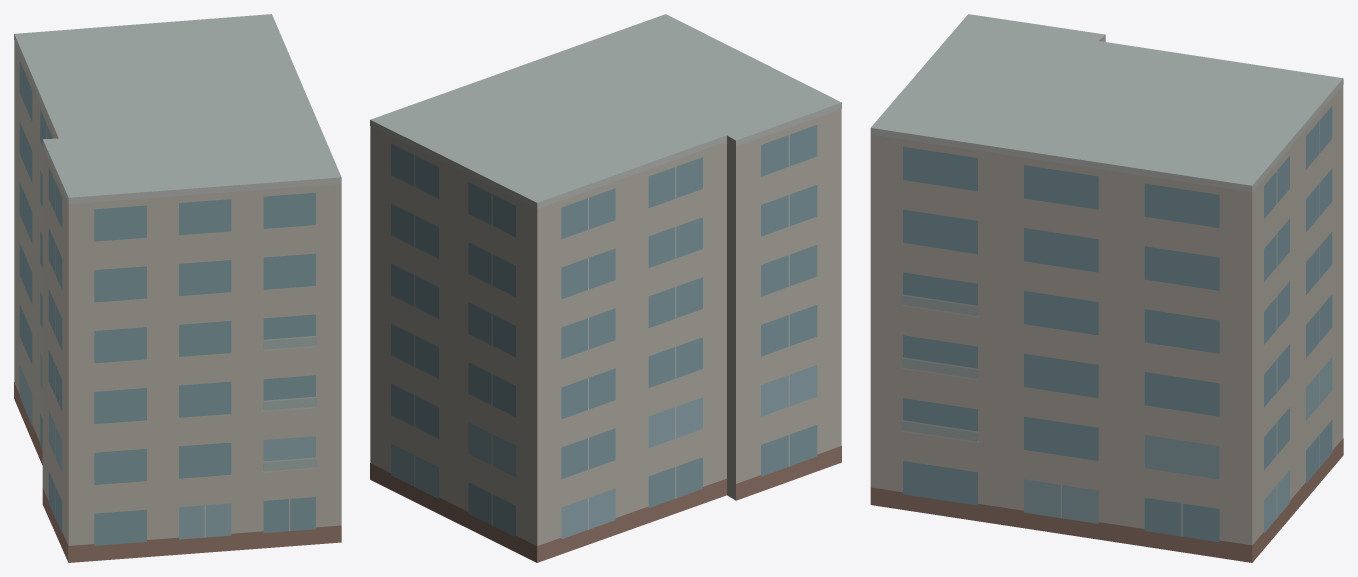
File: survey-upis-32854250.glb
The picture shows the model from 3 angles, left to right: view 1: azimuth 30°, elevation 25°; view 2: azimuth 150°, elevation 25°; view 3: azimuth 270°, elevation 25°; orthographic projection. The views are drawn at different scales.
Visible parts, largest first — view 1: survey-upis-32854250.tmp; view 2: survey-upis-32854250.tmp; view 3: survey-upis-32854250.tmp.
Boxes of the visible parts, box(x1,y1,x2,y2) form: survey-upis-32854250.tmp: box(14, 14, 341, 562); survey-upis-32854250.tmp: box(370, 14, 841, 562); survey-upis-32854250.tmp: box(870, 14, 1343, 562).
Size of the model in its own units: 13.98 by 14.3 by 16.26.
